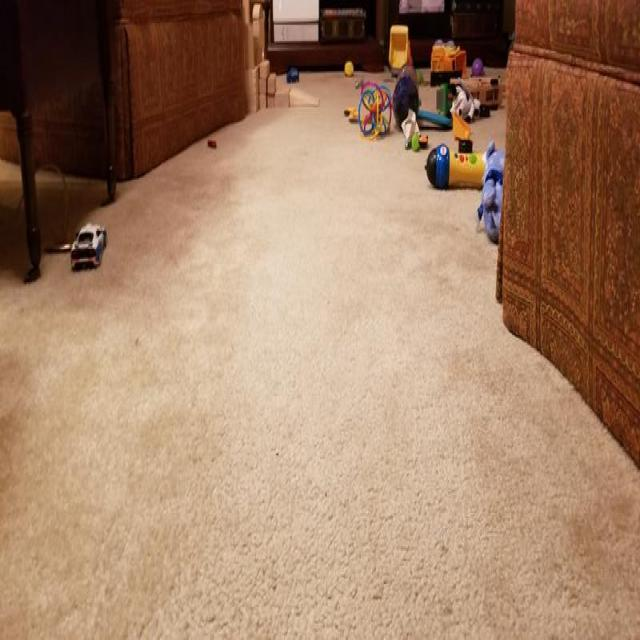toy: (478, 126, 516, 240), (422, 142, 509, 186), (245, 0, 279, 112), (73, 209, 111, 277), (450, 70, 504, 112), (428, 37, 466, 93), (361, 81, 391, 145), (392, 70, 418, 133), (389, 13, 414, 77), (417, 91, 453, 131), (272, 70, 295, 107), (452, 102, 472, 143), (405, 121, 429, 155), (343, 100, 365, 128), (290, 90, 320, 108), (282, 56, 302, 82), (342, 56, 356, 79), (204, 133, 218, 152)
